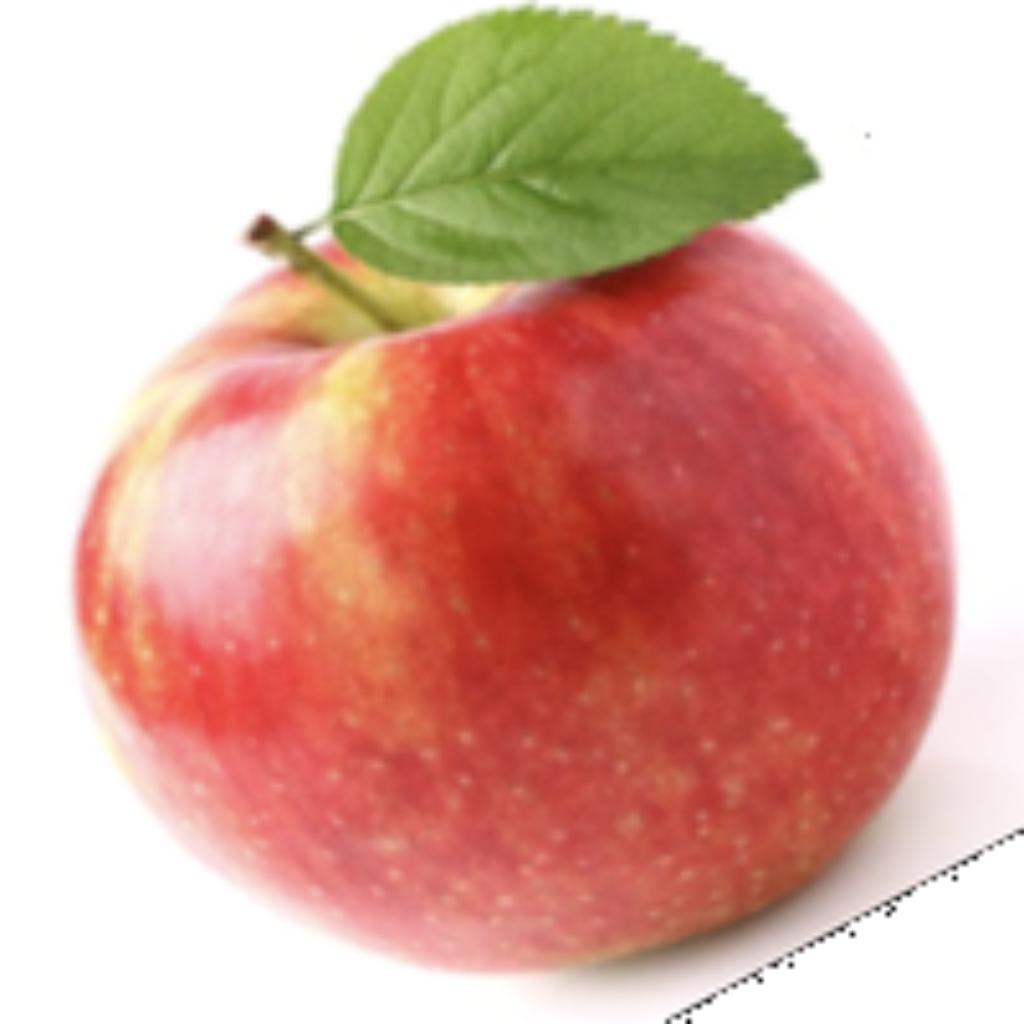apple: (61, 0, 1019, 1019)
